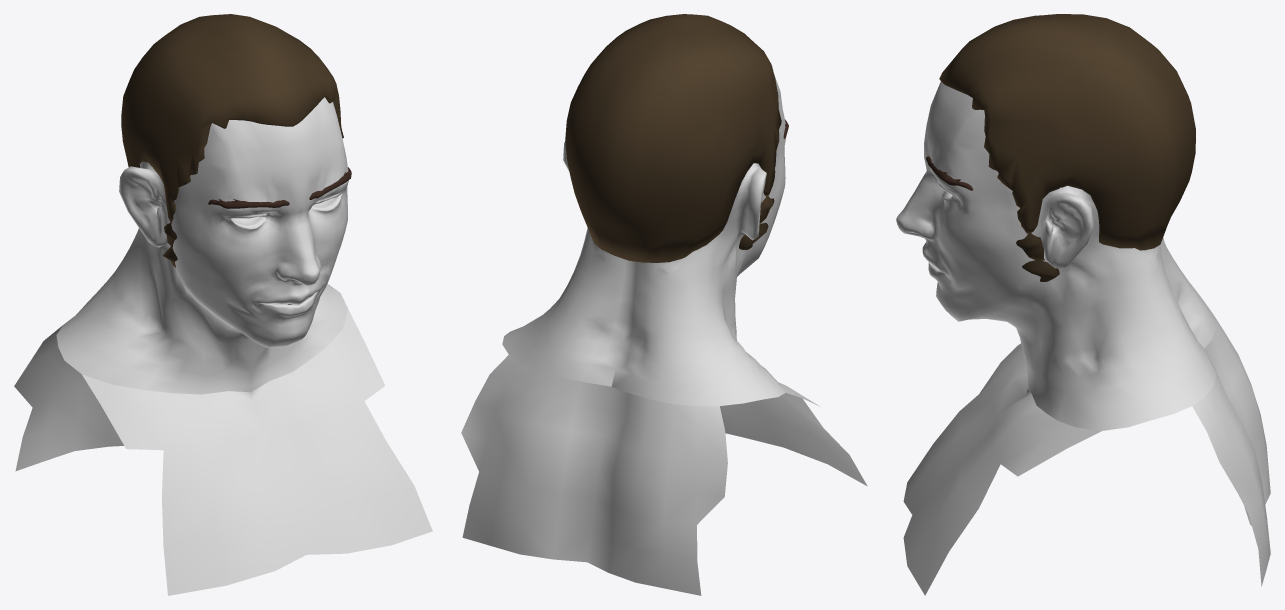
File: scout-head.glb
3 renders of one model, left to right at view 1: azimuth 30°, elevation 25°; view 2: azimuth 150°, elevation 25°; view 3: azimuth 270°, elevation 25°, orthographic. The views are drawn at different scales.
Parts seen in each view (by area): view 1: SuperHero_Male, SM_Hero_Hair_scout, Eyebrows; view 2: SuperHero_Male, SM_Hero_Hair_scout; view 3: SuperHero_Male, SM_Hero_Hair_scout.
Boxes of the visible parts, bbox=[...] form: SuperHero_Male: bbox=[14, 97, 432, 595]; SM_Hero_Hair_scout: bbox=[121, 14, 343, 304]; Eyebrows: bbox=[208, 167, 351, 208]; SuperHero_Male: bbox=[461, 76, 867, 595]; SM_Hero_Hair_scout: bbox=[565, 14, 781, 262]; SuperHero_Male: bbox=[896, 81, 1270, 595]; SM_Hero_Hair_scout: bbox=[939, 14, 1195, 281].
Size of the model in its own units: 0.2463 by 0.4162 by 0.2786.
